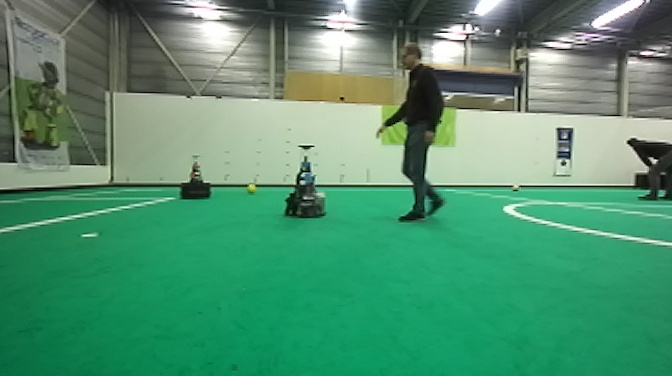ball: (244, 181, 258, 194), (509, 181, 521, 194)
human: (374, 44, 447, 224), (624, 134, 672, 202)
robot: (282, 143, 330, 220), (177, 153, 215, 201)
